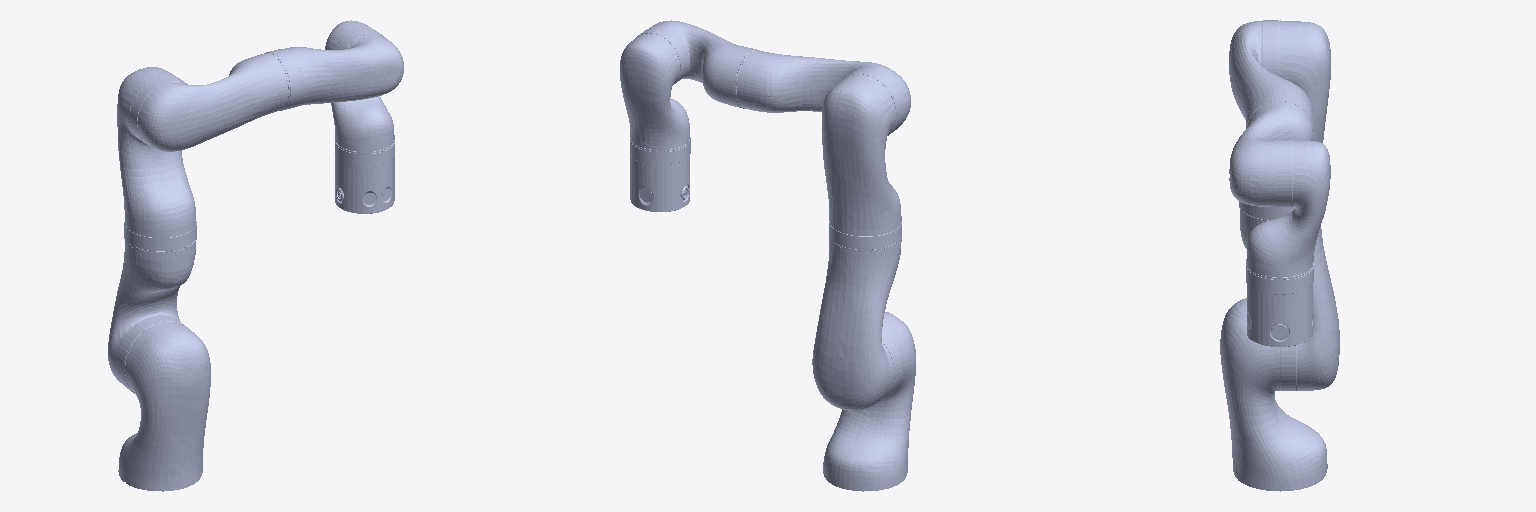
URDF robot description (tcb705):
<?xml version="1.0" encoding="utf-8"?>
<!-- This URDF was automatically created by SolidWorks to URDF Exporter! Originally created by Stephen Brawner (brawner@gmail.com) 
     Commit Version: 1.6.0-4-g7f85cfe  Build Version: 1.6.7995.38578
     For more information, please see http://wiki.ros.org/sw_urdf_exporter -->
<robot
  name="tcb705">
  <mujoco>
    <compiler
      meshdir="../meshes/"
      discardvisual="false"
    />
  </mujoco> 
  <link
    name="link0">
    <inertial>
      <origin
        xyz="6.12497638641969E-05 -0.000223185372968983 0.0451250845243685"
        rpy="0 0 0" />
      <mass
        value="0.187811134048234" />
      <inertia
        ixx="0.000410447827698303"
        ixy="-1.83967207207471E-06"
        ixz="7.3863306477592E-06"
        iyy="0.00040849066760795"
        iyz="9.28078640227964E-07"
        izz="0.000400922840502194" />
    </inertial>
    <visual>
      <origin
        xyz="0 0 0"
        rpy="0 0 0" />
      <geometry>
        <mesh
          filename="package://tl_description/meshes/tcb705/link0.STL" />
      </geometry>
      <material
        name="">
        <color
          rgba="0.792156862745098 0.819607843137255 0.933333333333333 1" />
      </material>
    </visual>
    <collision>
      <origin
        xyz="0 0 0"
        rpy="0 0 0" />
      <geometry>
        <mesh
          filename="package://tl_description/meshes/tcb705/link0.STL" />
      </geometry>
    </collision>
  </link>
  <link
    name="link1">
    <inertial>
      <origin
        xyz="-1.47467364543795E-05 -0.0147035745838852 0.0741700653739531"
        rpy="0 0 0" />
      <mass
        value="0.14078274314442" />
      <inertia
        ixx="0.000389165158363872"
        ixy="7.76850517532584E-09"
        ixz="-3.45965366455443E-08"
        iyy="0.000404601054210795"
        iyz="5.39676858807365E-05"
        izz="0.000158801770197842" />
    </inertial>
    <visual>
      <origin
        xyz="0 0 0"
        rpy="0 0 0" />
      <geometry>
        <mesh
          filename="package://tl_description/meshes/tcb705/link1.STL" />
      </geometry>
      <material
        name="">
        <color
          rgba="0.792156862745098 0.819607843137255 0.933333333333333 1" />
      </material>
    </visual>
    <collision>
      <origin
        xyz="0 0 0"
        rpy="0 0 0" />
      <geometry>
        <mesh
          filename="package://tl_description/meshes/tcb705/link1.STL" />
      </geometry>
    </collision>
  </link>
  <joint
    name="joint1"
    type="revolute">
    <origin
      xyz="0 0 0.11555"
      rpy="0 0 0" />
    <parent
      link="link0" />
    <child
      link="link1" />
    <axis
      xyz="0 0 1" />
    <limit
      lower="-3.1226"
      upper="3.1226"
      effort="0"
      velocity="0" />
  </joint>
  <link
    name="link2">
    <inertial>
      <origin
        xyz="1.18295279500075E-05 -0.0560587581728315 0.0115242663758965"
        rpy="0 0 0" />
      <mass
        value="0.124446077657511" />
      <inertia
        ixx="0.000370542801783092"
        ixy="-3.15522771098287E-08"
        ixz="-1.29774872107508E-08"
        iyy="0.000121234445607782"
        iyz="-7.13334483668475E-05"
        izz="0.000380138150030635" />
    </inertial>
    <visual>
      <origin
        xyz="0 0 0"
        rpy="0 0 0" />
      <geometry>
        <mesh
          filename="package://tl_description/meshes/tcb705/link2.STL" />
      </geometry>
      <material
        name="">
        <color
          rgba="0.792156862745098 0.819607843137255 0.933333333333333 1" />
      </material>
    </visual>
    <collision>
      <origin
        xyz="0 0 0"
        rpy="0 0 0" />
      <geometry>
        <mesh
          filename="package://tl_description/meshes/tcb705/link2.STL" />
      </geometry>
    </collision>
  </link>
  <joint
    name="joint2"
    type="revolute">
    <origin
      xyz="0 0.00715 0.12745"
      rpy="-1.5708 0 0" />
    <parent
      link="link1" />
    <child
      link="link2" />
    <axis
      xyz="0 0 1" />
    <limit
      lower="-2.3550"
      upper="2.3550"
      effort="0"
      velocity="0" />
  </joint>
  <link
    name="link3">
    <inertial>
      <origin
        xyz="-0.000130315367396243 0.012989378129837 0.0728737419606885"
        rpy="0 0 0" />
      <mass
        value="0.114586309112406" />
      <inertia
        ixx="0.000277973822745621"
        ixy="-1.69575018448269E-07"
        ixz="9.68300993793602E-07"
        iyy="0.000287452307059737"
        iyz="-3.76355077112795E-05"
        izz="9.7208783785071E-05" />
    </inertial>
    <visual>
      <origin
        xyz="0 0 0"
        rpy="0 0 0" />
      <geometry>
        <mesh
          filename="package://tl_description/meshes/tcb705/link3.STL" />
      </geometry>
      <material
        name="">
        <color
          rgba="0.792156862745098 0.819607843137255 0.933333333333333 1" />
      </material>
    </visual>
    <collision>
      <origin
        xyz="0 0 0"
        rpy="0 0 0" />
      <geometry>
        <mesh
          filename="package://tl_description/meshes/tcb705/link3.STL" />
      </geometry>
    </collision>
  </link>
  <joint
    name="joint3"
    type="revolute">
    <origin
      xyz="0 -0.14065 -0.00735"
      rpy="1.5708 0 0" />
    <parent
      link="link2" />
    <child
      link="link3" />
    <axis
      xyz="0 0 1" />
    <limit
      lower="-3.1226"
      upper="3.1226"
      effort="0"
      velocity="0" />
  </joint>
  <link
    name="link4">
    <inertial>
      <origin
        xyz="0.0577535050715666 -6.48637557892906E-06 -0.0087847240031295"
        rpy="0 0 0" />
      <mass
        value="0.0945260952125154" />
      <inertia
        ixx="6.42616764244646E-05"
        ixy="5.30816342122012E-08"
        ixz="-4.60316588385269E-05"
        iyy="0.00023778588437789"
        iyz="1.06494694888349E-09"
        izz="0.000240859360084788" />
    </inertial>
    <visual>
      <origin
        xyz="0 0 0"
        rpy="0 0 0" />
      <geometry>
        <mesh
          filename="package://tl_description/meshes/tcb705/link4.STL" />
      </geometry>
      <material
        name="">
        <color
          rgba="0.792156862745098 0.819607843137255 0.933333333333333 1" />
      </material>
    </visual>
    <collision>
      <origin
        xyz="0 0 0"
        rpy="0 0 0" />
      <geometry>
        <mesh
          filename="package://tl_description/meshes/tcb705/link4.STL" />
      </geometry>
    </collision>
  </link>
  <joint
    name="joint4"
    type="revolute">
    <origin
      xyz="0 -0.00815 0.12915"
      rpy="-1.5708 0 0" />
    <parent
      link="link3" />
    <child
      link="link4" />
    <axis
      xyz="0 0 1" />
    <limit
      lower="-4.0666"
      upper="0.9250"
      effort="0"
      velocity="0" />
  </joint>
  <link
    name="link5">
    <inertial>
      <origin
        xyz="-1.01232852853794E-05 -0.0129940541079985 -0.055292328516055"
        rpy="0 0 0" />
      <mass
        value="0.0720846800043471" />
      <inertia
        ixx="0.000105414944580743"
        ixy="-1.21111726893831E-08"
        ixz="2.4845732350999E-09"
        iyy="0.000106134718544586"
        iyz="-1.86457221244631E-05"
        izz="4.55695074568223E-05" />
    </inertial>
    <visual>
      <origin
        xyz="0 0 0"
        rpy="0 0 0" />
      <geometry>
        <mesh
          filename="package://tl_description/meshes/tcb705/link5.STL" />
      </geometry>
      <material
        name="">
        <color
          rgba="0.792156862745098 0.819607843137255 0.933333333333333 1" />
      </material>
    </visual>
    <collision>
      <origin
        xyz="0 0 0"
        rpy="0 0 0" />
      <geometry>
        <mesh
          filename="package://tl_description/meshes/tcb705/link5.STL" />
      </geometry>
    </collision>
  </link>
  <joint
    name="joint5"
    type="revolute">
    <origin
      xyz="0.13665 0 0.00835"
      rpy="1.5708 0 -1.5708" />
    <parent
      link="link4" />
    <child
      link="link5" />
    <axis
      xyz="0 0 -1" />
    <limit
      lower="-3.1226"
      upper="3.1226"
      effort="0"
      velocity="0" />
  </joint>
  <link
    name="link6">
    <inertial>
      <origin
        xyz="-0.0369306233333042 -1.16840006222918E-06 -0.0120182245017981"
        rpy="0 0 0" />
      <mass
        value="0.0641133113178346" />
      <inertia
        ixx="4.10035418696744E-05"
        ixy="7.62864146260834E-09"
        ixz="2.10915460868567E-05"
        iyy="9.8803004000802E-05"
        iyz="3.02303356276864E-09"
        izz="9.73770727972659E-05" />
    </inertial>
    <visual>
      <origin
        xyz="0 0 0"
        rpy="0 0 0" />
      <geometry>
        <mesh
          filename="package://tl_description/meshes/tcb705/link6.STL" />
      </geometry>
      <material
        name="">
        <color
          rgba="0.792156862745098 0.819607843137255 0.933333333333333 1" />
      </material>
    </visual>
    <collision>
      <origin
        xyz="0 0 0"
        rpy="0 0 0" />
      <geometry>
        <mesh
          filename="package://tl_description/meshes/tcb705/link6.STL" />
      </geometry>
    </collision>
  </link>
  <joint
    name="joint6"
    type="revolute">
    <origin
      xyz="0 0.00365 -0.09315"
      rpy="1.5708 0 0" />
    <parent
      link="link5" />
    <child
      link="link6" />
    <axis
      xyz="0 0 -1" />
    <limit
      lower="-3.8921"
      upper="0.7505"
      effort="0"
      velocity="0" />
  </joint>
  <link
    name="link7">
    <inertial>
      <origin
        xyz="-0.000444011264910449 0.000118974846148791 -0.0238166943512346"
        rpy="0 0 0" />
      <mass
        value="0.0530857040675618" />
      <inertia
        ixx="3.09105515779773E-05"
        ixy="-1.17232489242E-08"
        ixz="2.37155739689541E-07"
        iyy="3.18622235878384E-05"
        iyz="-6.46512577984948E-08"
        izz="3.41310109263229E-05" />
    </inertial>
    <visual>
      <origin
        xyz="0 0 0"
        rpy="0 0 0" />
      <geometry>
        <mesh
          filename="package://tl_description/meshes/tcb705/link7.STL" />
      </geometry>
      <material
        name="">
        <color
          rgba="0.792156862745098 0.819607843137255 0.933333333333333 1" />
      </material>
    </visual>
    <collision>
      <origin
        xyz="0 0 0"
        rpy="0 0 0" />
      <geometry>
        <mesh
          filename="package://tl_description/meshes/tcb705/link7.STL" />
      </geometry>
    </collision>
  </link>
  <joint
    name="joint7"
    type="revolute">
    <origin
      xyz="-0.1528 0 0.00385"
      rpy="1.5708 0 -1.5708" />
    <parent
      link="link6" />
    <child
      link="link7" />
    <axis
      xyz="0 0 1" />
    <limit
      lower="-3.1226"
      upper="3.1226"
      effort="0"
      velocity="0" />
  </joint>
</robot>

--- Render facts (derived) ---
3 views of the same robot in one strip: view 1: azimuth 30°, elevation 25°; view 2: azimuth 150°, elevation 25°; view 3: azimuth 270°, elevation 25° (orthographic).
Model tcb705 with 8 links and 7 joints (7 revolute), rooted at link0, posed all joints at 0.
Links seen in each view (by area): view 1: link1, link4, link3, link2, link5, link6, link7; view 2: link2, link3, link1, link6, link4, link5, link7; view 3: link1, link6, link5, link2, link3, link4, link7.
Boxes of the visible links, bbox=[...] form: link1: bbox=[117, 315, 210, 491]; link4: bbox=[137, 49, 302, 151]; link3: bbox=[117, 67, 196, 237]; link2: bbox=[108, 221, 196, 383]; link5: bbox=[285, 28, 403, 106]; link6: bbox=[325, 20, 394, 166]; link7: bbox=[335, 157, 394, 213]; link2: bbox=[812, 221, 901, 410]; link3: bbox=[822, 68, 904, 235]; link1: bbox=[823, 312, 915, 491]; link6: bbox=[620, 33, 690, 164]; link4: bbox=[722, 46, 910, 126]; link5: bbox=[637, 20, 741, 103]; link7: bbox=[630, 155, 689, 211]; link1: bbox=[1220, 298, 1327, 491]; link6: bbox=[1246, 140, 1330, 294]; link5: bbox=[1229, 101, 1313, 206]; link2: bbox=[1239, 201, 1339, 390]; link3: bbox=[1262, 20, 1330, 142]; link4: bbox=[1229, 21, 1313, 136]; link7: bbox=[1247, 284, 1312, 346].
Bounding box of the posed robot: 0.3006 × 0.1036 × 0.4278 m (x, y, z).
Meshes: 8 distinct files referenced, 7 mesh visuals loaded (7 binary STL); not drawn: 1 (reference not matched to a file when rendering).
